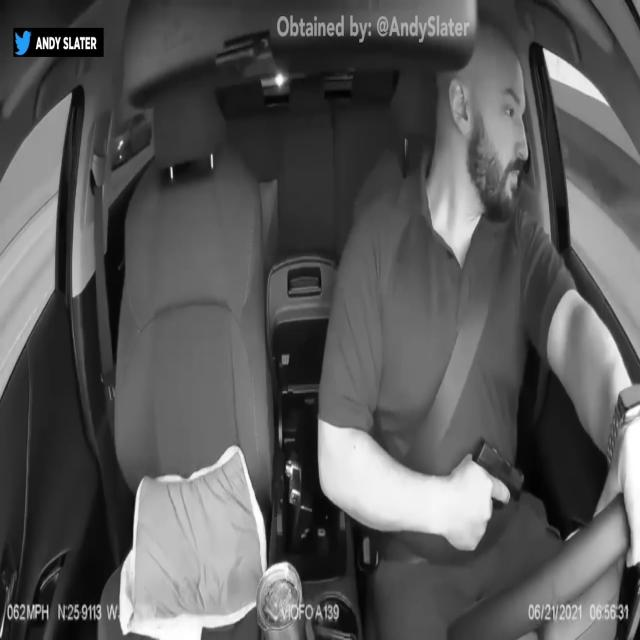senjata_api: (473, 434, 525, 508)
